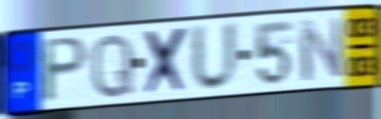5: (253, 18, 296, 87)
N: (296, 15, 346, 84)
P: (40, 34, 91, 107)
Q: (89, 30, 136, 101)
U: (189, 19, 241, 95)
X: (143, 25, 190, 99)
